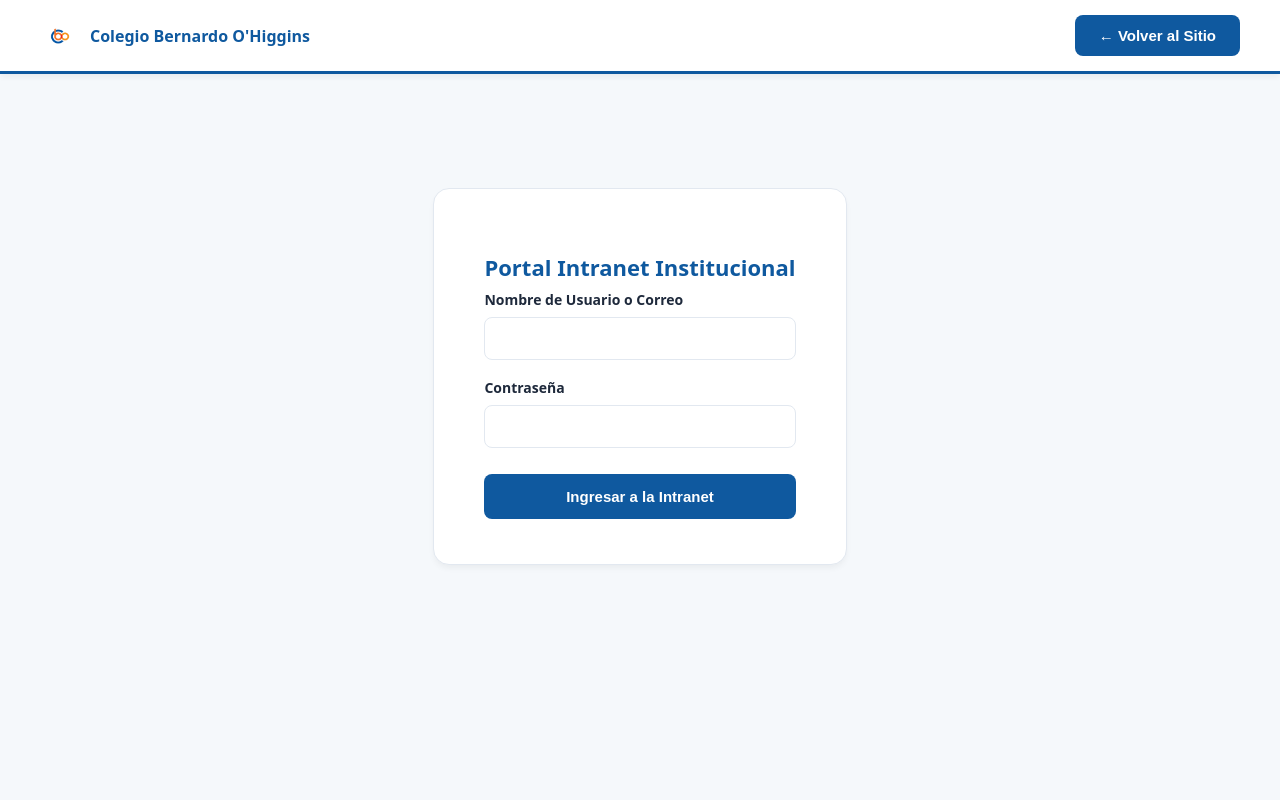
Test case: Página Login › debe mostrar error de conexión cuando login lanza excepción
Type "usuario" into the field labelled "Nombre de Usuario o Correo" at (640, 339), box [484,317,796,360]
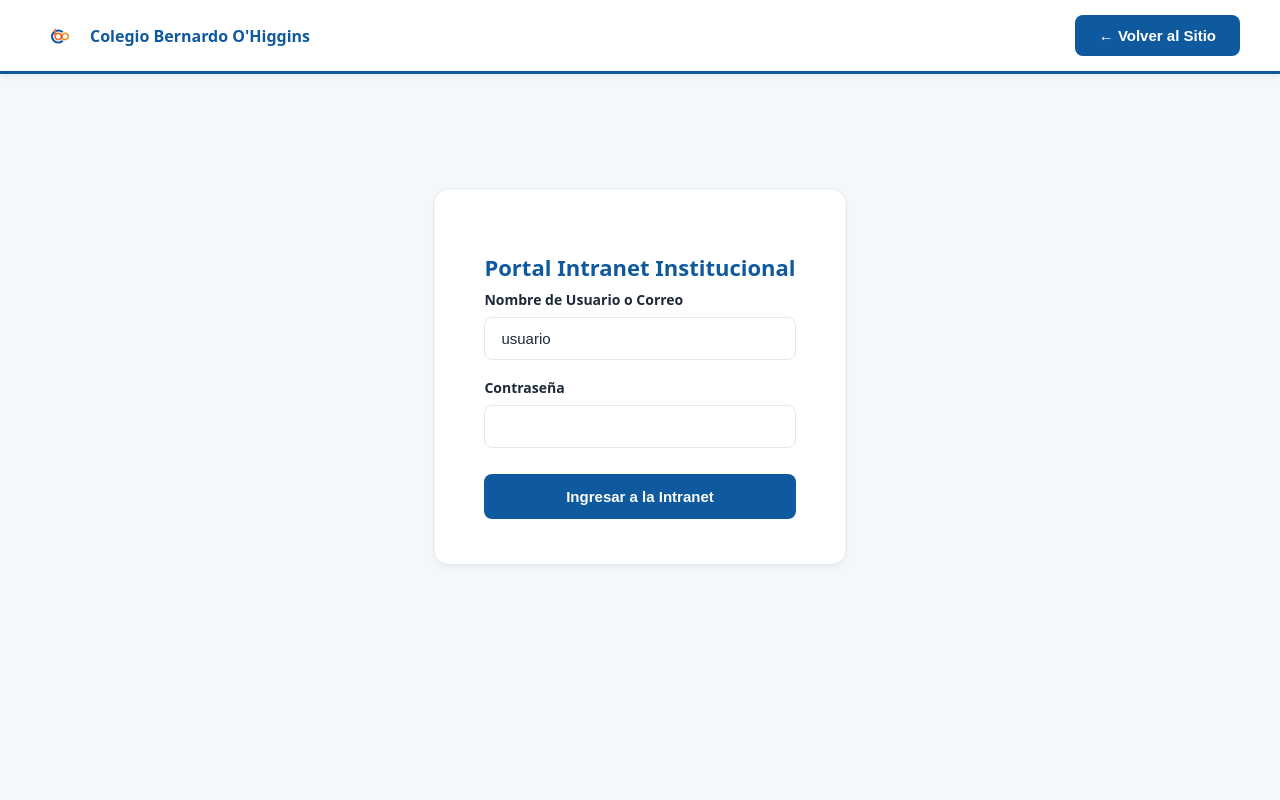
Type "1234" into the password field labelled "Contraseña" at (640, 427), box [484,405,796,448]
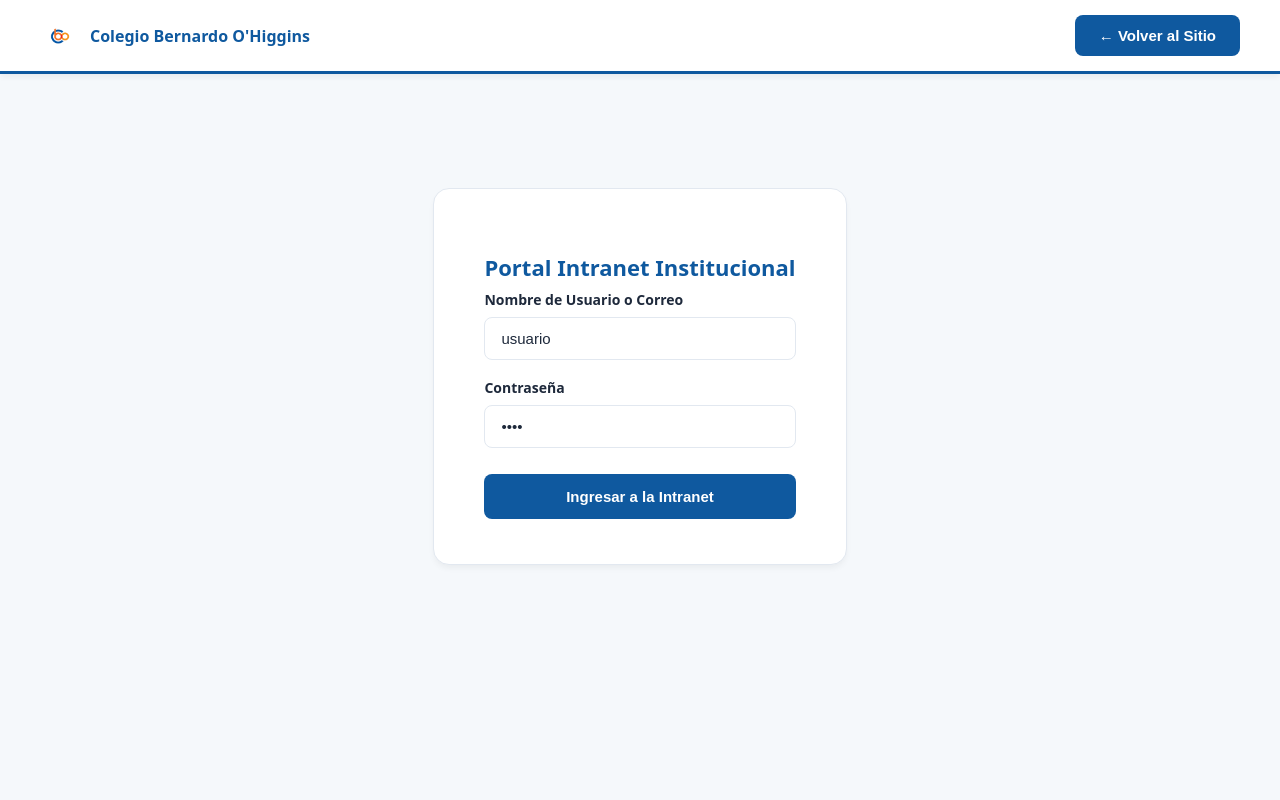
Click the button "Ingresar a la Intranet" at (640, 497), box [484,474,796,519]
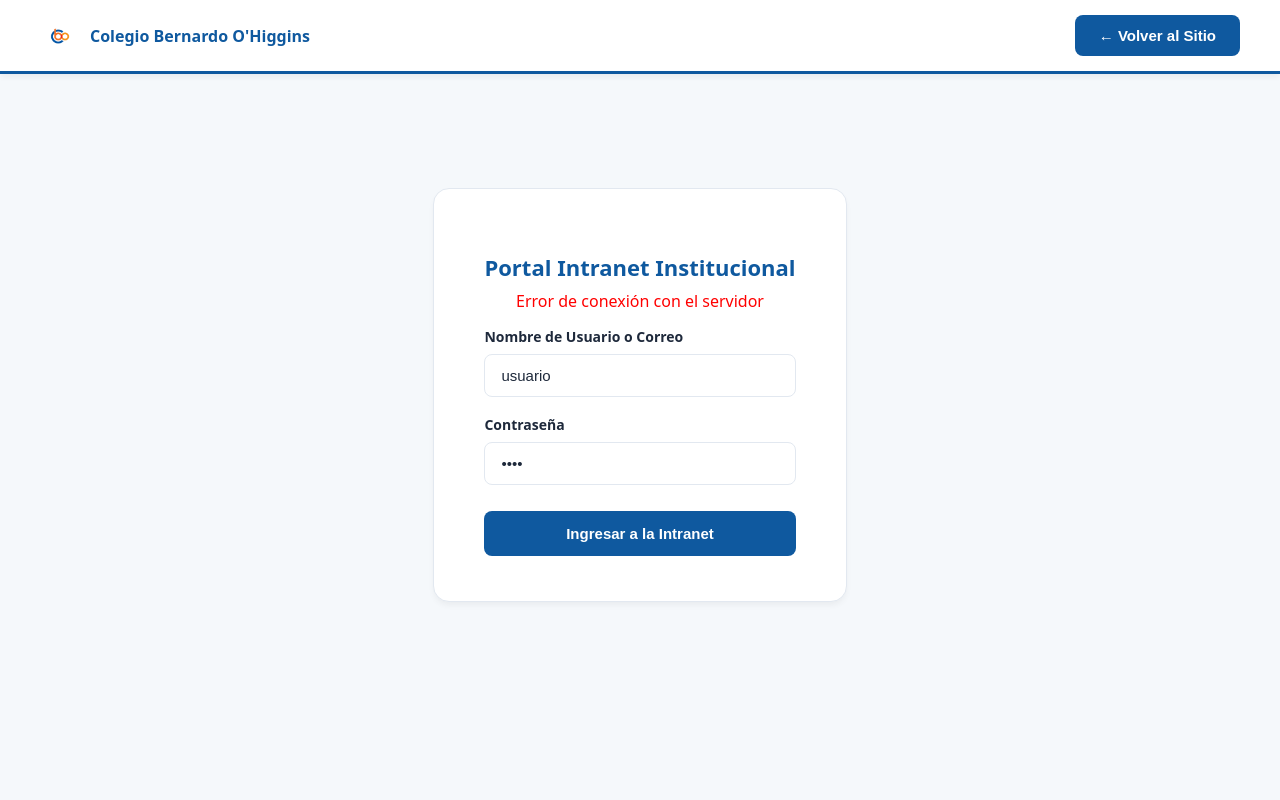
Expected: the message reads "Error de conexión con el servidor", [516,290,764,312]
